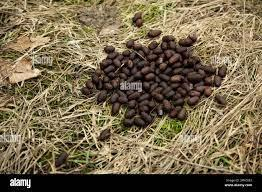Elk: (89, 48, 206, 110)
